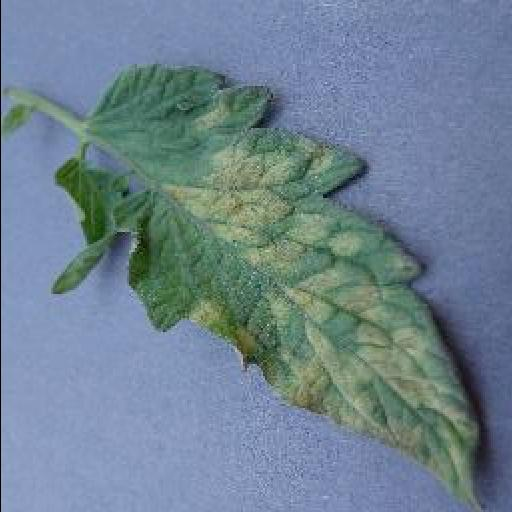disease_tomato: (86, 62, 488, 512)
